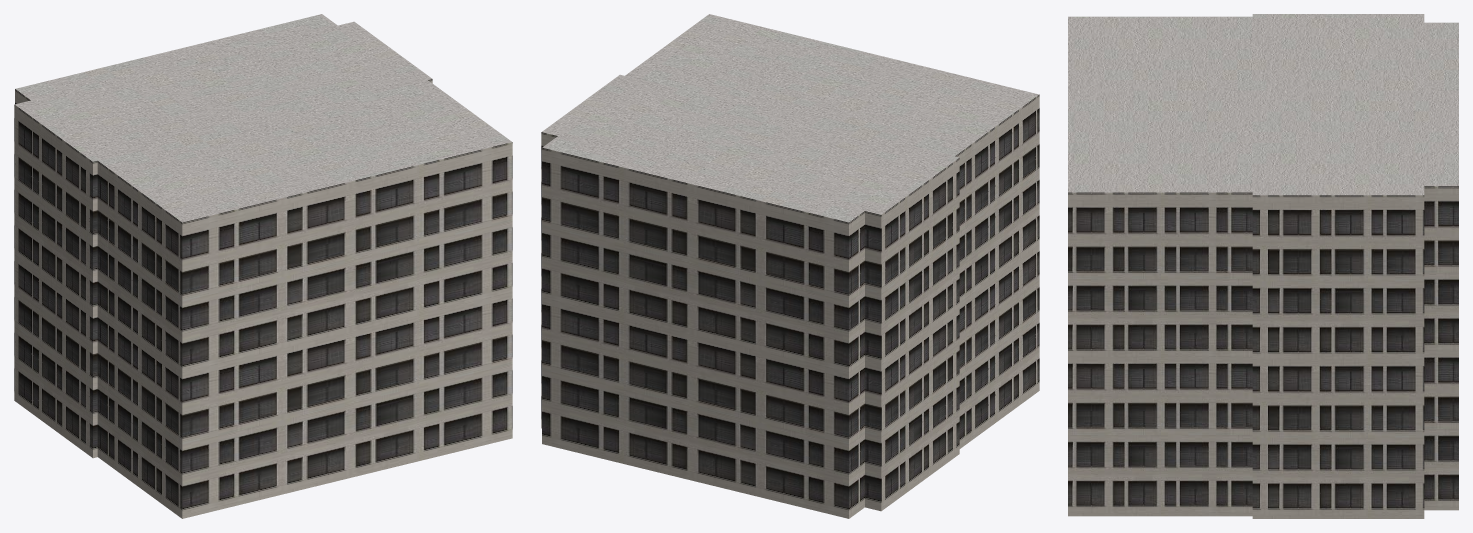
The model's file is building_020.fbx.
3 views of the same model, side by side, from view 1: azimuth 30°, elevation 25°; view 2: azimuth 150°, elevation 25°; view 3: azimuth 270°, elevation 25° (orthographic). The views are drawn at different scales.
Visible parts, largest first — view 1: building_020; view 2: building_020; view 3: building_020.
Boxes of the visible parts, left/top/right/bottom form: building_020: left=14, top=14, right=512, bottom=518; building_020: left=541, top=14, right=1039, bottom=518; building_020: left=1068, top=14, right=1458, bottom=518.
Bounding box in the file's own units: 1800 × 1500 × 1641.
